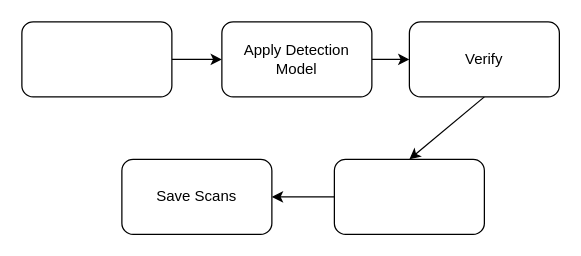
Image size: 581x256. Some labels were removed from this diagram. Here are the shapes that lost their labels. From the top down, the box of each, then its label:
(21, 21, 172, 97): Load MRI Scans
(333, 158, 484, 234): Remove Bad Volumes
